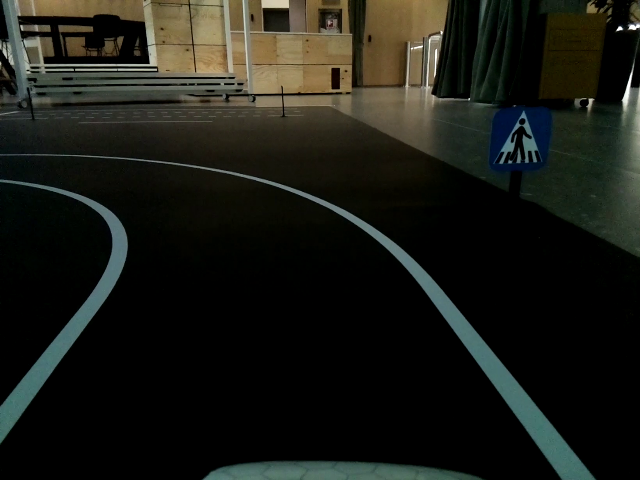pedestrians: (491, 108, 550, 170)
